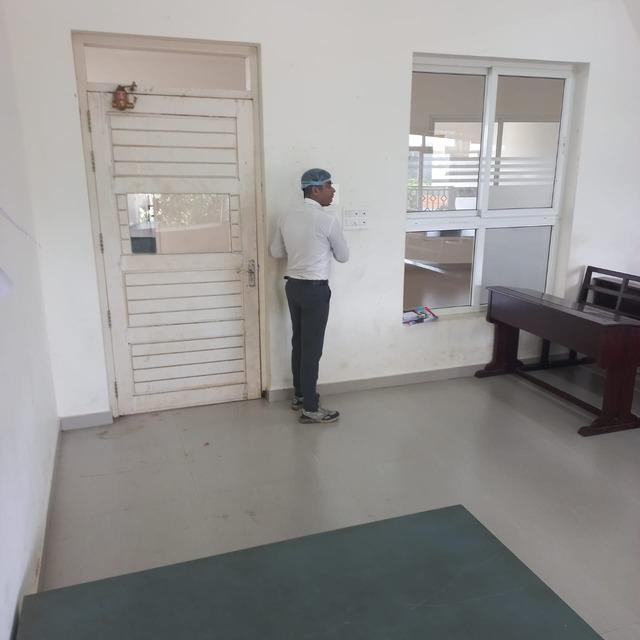gloves: (302, 169, 332, 192)
no_hairnet: (306, 185, 340, 205)
